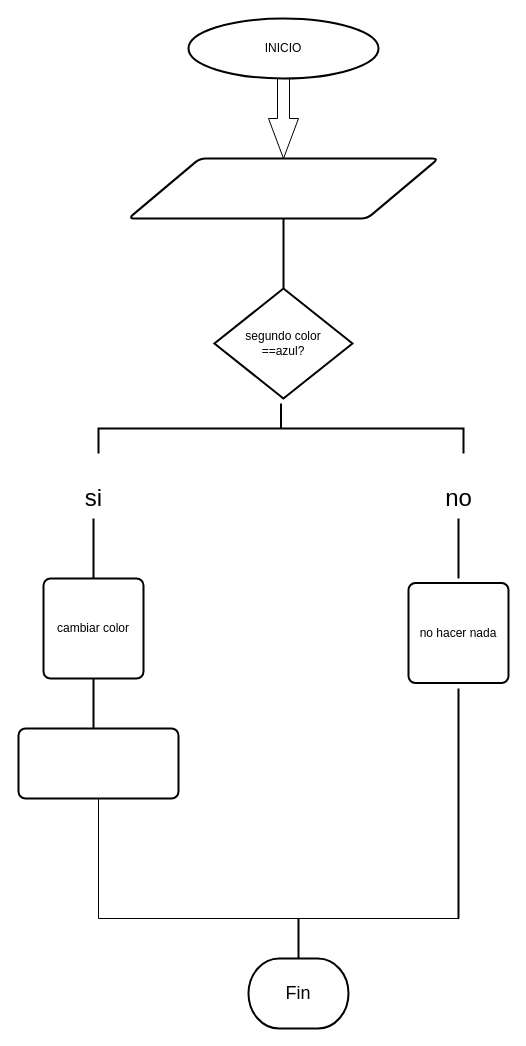
The diagram is 526 pixels wide and 1046 high, and some of its shapes have lost their labels. The shapes that lost their labels are listed below. From the top down, each one's centre as x and y in pixels, then its label:
the point at 283,188: crear lista con 3 colores
the point at 98,763: mostrar lista actualizada
